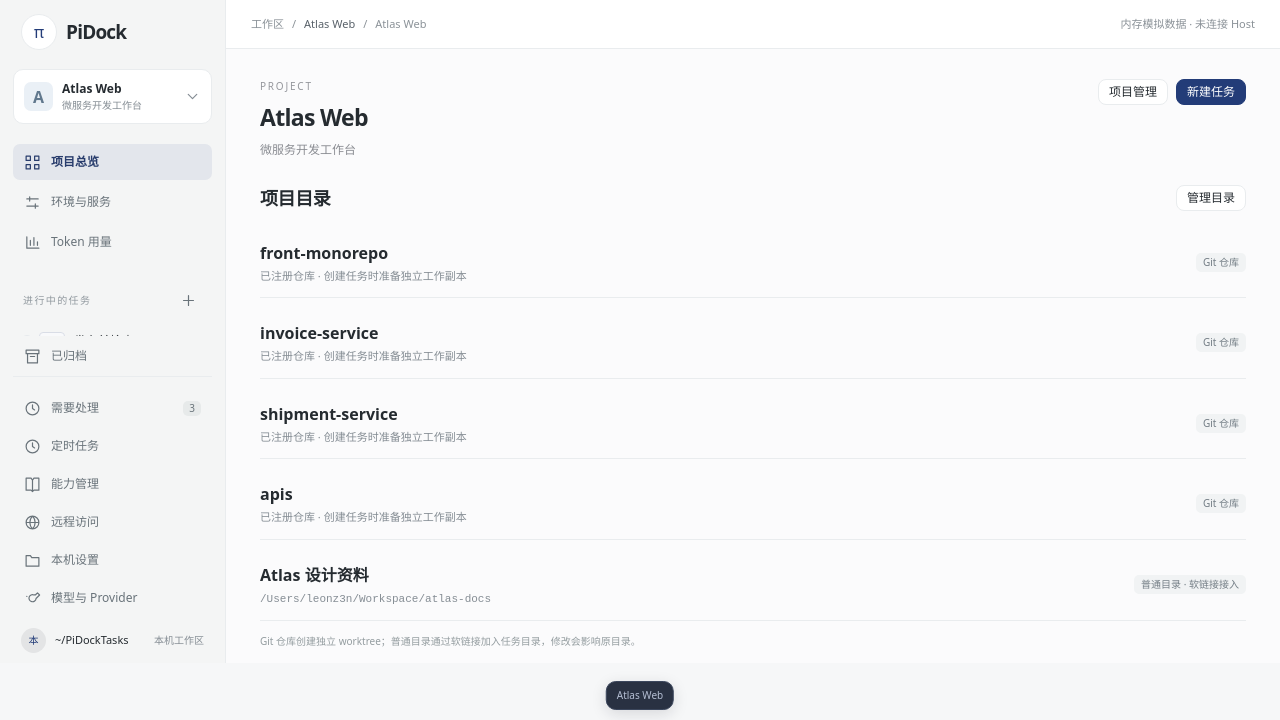
Scenario: project ordinary-directory management › registers a new directory and locks the one referenced by a task
This screenshot has width=1280, height=720.
Expected: the heading "Atlas Web" is shown, x1=260 y1=100 x2=368 y2=134
Click the button "管理目录": (1211, 198) x1=1176 y1=185 x2=1246 y2=211
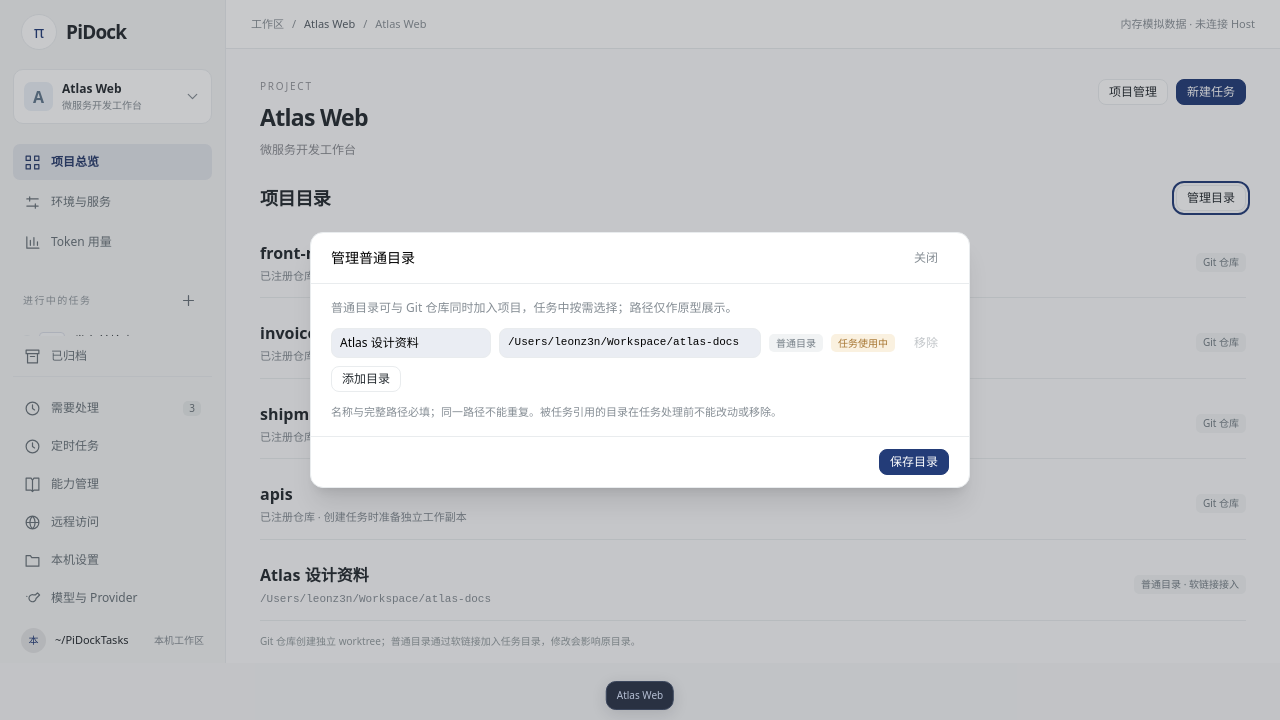
Expected: the button with aria-label "移除目录 第 1 行" is disabled, x1=903 y1=330 x2=949 y2=356
Click the button "添加目录": (366, 379) x1=331 y1=366 x2=401 y2=392
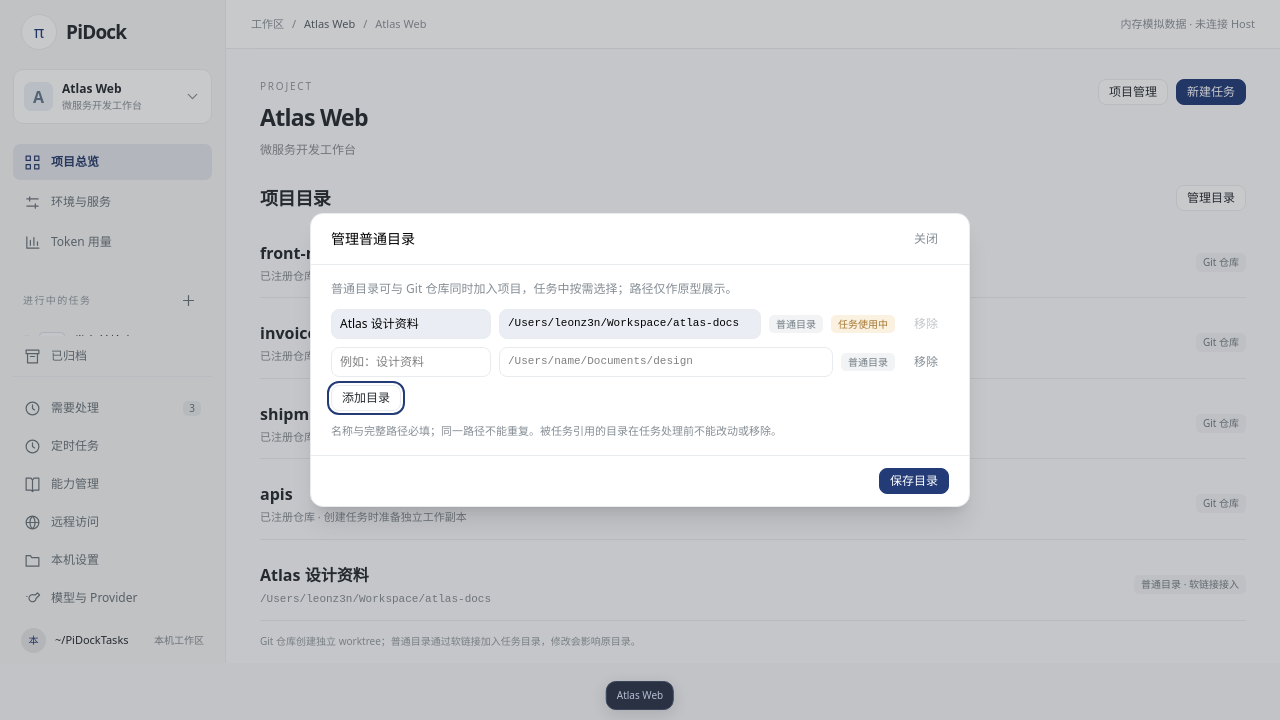
In the field named "目录名称 第 2 行": (411, 362) x1=331 y1=347 x2=491 y2=377, type "设计补充"
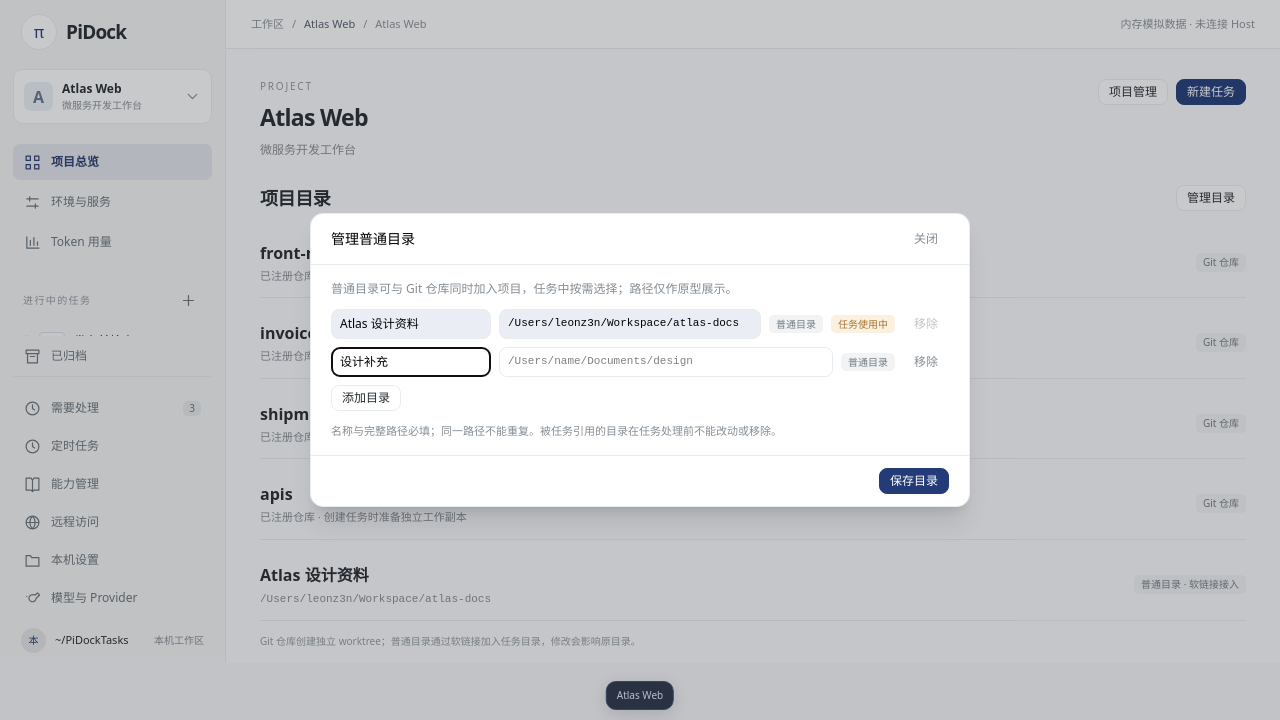
In the field named "目录路径 第 2 行": (666, 362) x1=499 y1=347 x2=833 y2=377, type "/Users/leonz3n/Workspace/design-extra"
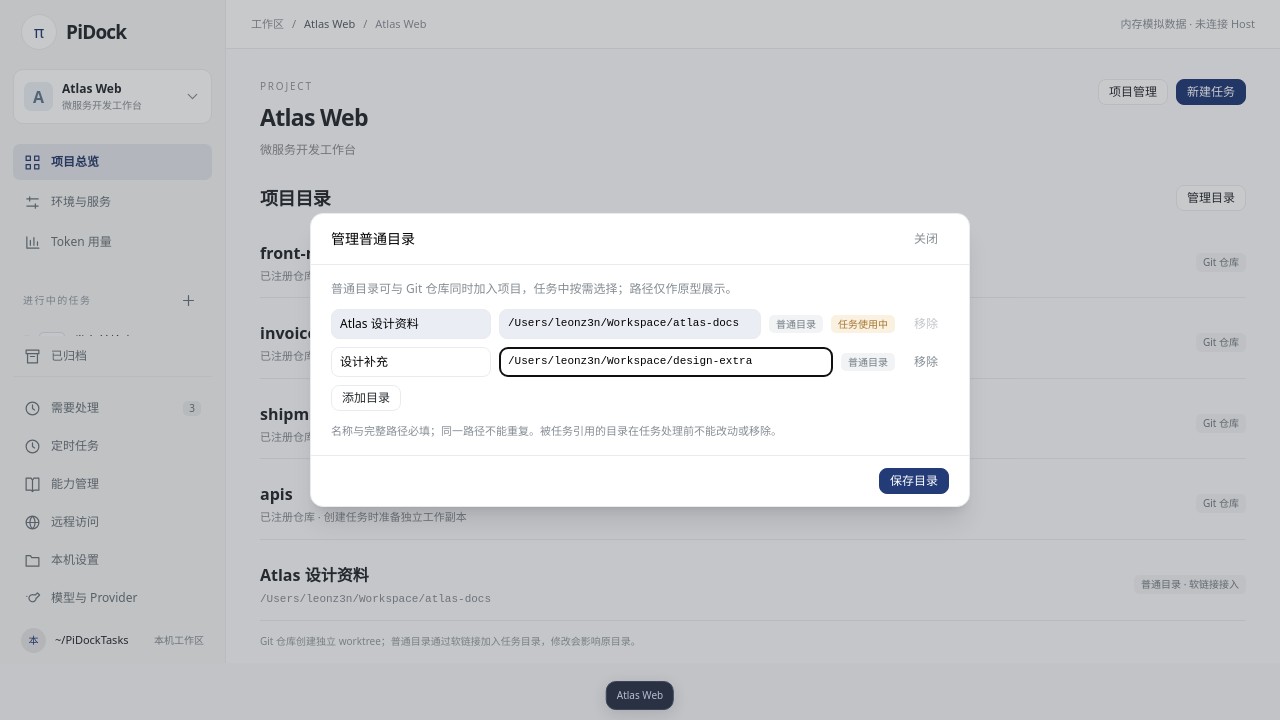
Click the button "保存目录": (914, 481) x1=879 y1=468 x2=949 y2=494
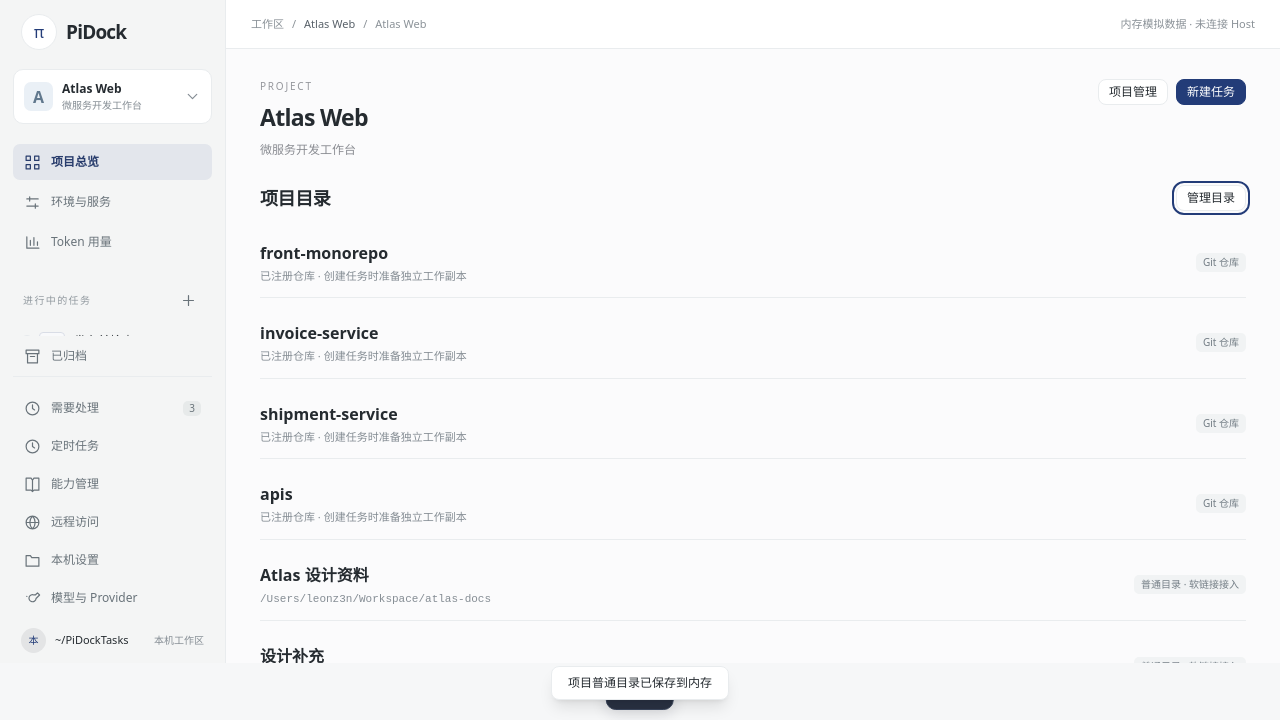
Expected: the button "项目普通目录已保存到内存" is shown, x1=551 y1=666 x2=729 y2=700
Expected: the text "设计补充" is shown, x1=260 y1=645 x2=324 y2=663
